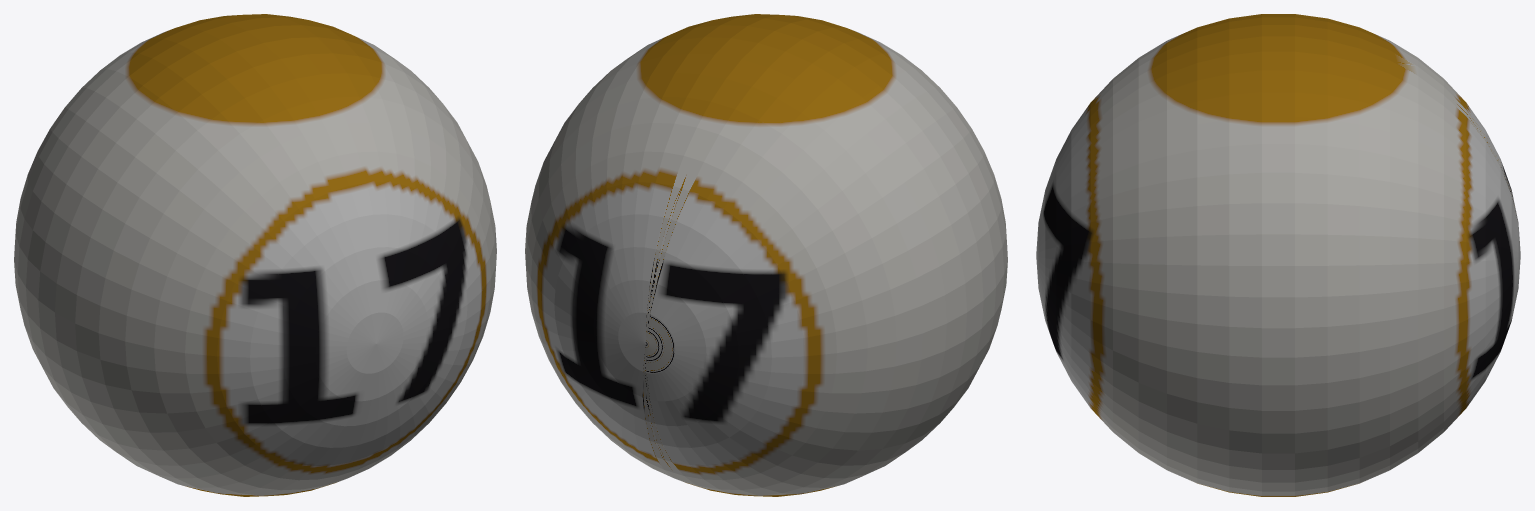
The picture shows the model from 3 angles, left to right: view 1: azimuth 30°, elevation 25°; view 2: azimuth 150°, elevation 25°; view 3: azimuth 270°, elevation 25°; orthographic projection.
Parts seen in each view (by area): view 1: geometry_0; view 2: geometry_0; view 3: geometry_0.
Part boxes in pixels (box(x1,y1,x2,y2)): geometry_0: box(14, 14, 496, 496); geometry_0: box(525, 14, 1007, 496); geometry_0: box(1036, 14, 1520, 496).
Size of the model in its own units: 0.0599 by 0.0599 by 0.06.
Materials: 1 (1 with a texture image).
